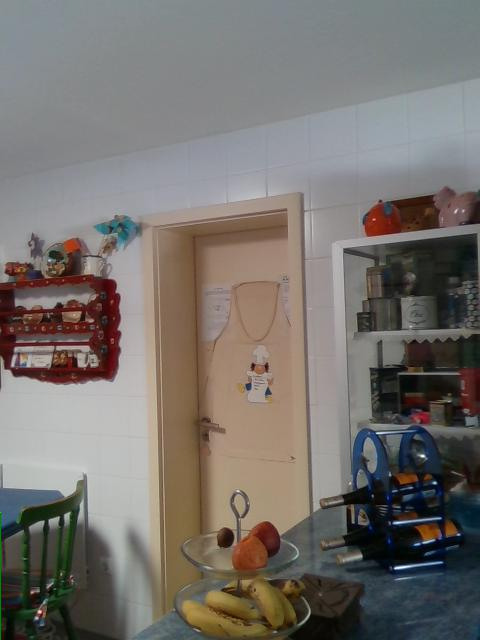door: (192, 225, 294, 572)
